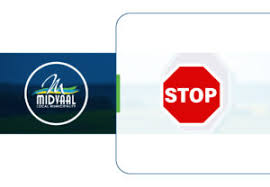stop sign: (163, 64, 222, 125)
